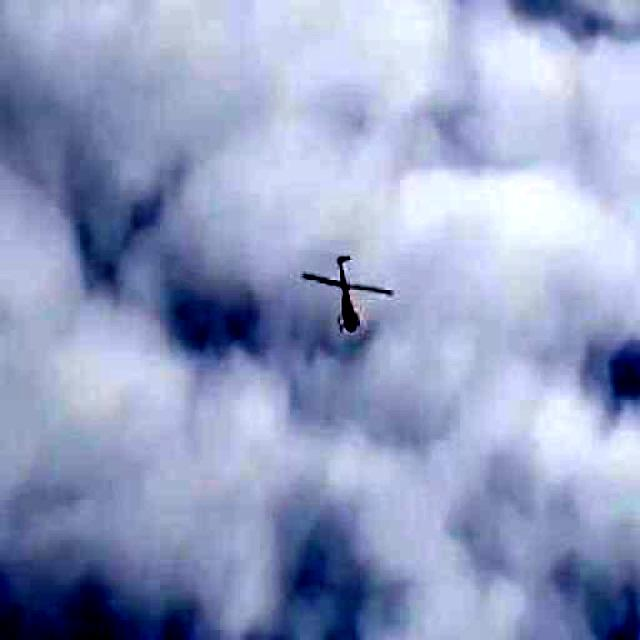drone: (276, 208, 414, 354)
